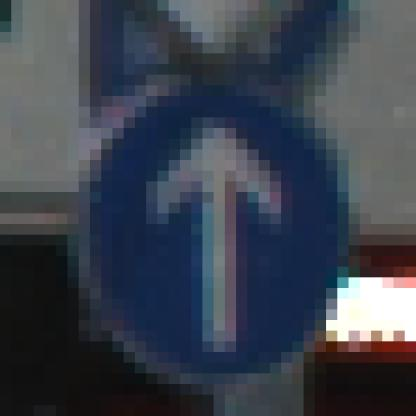AheadOnly: (57, 54, 361, 364)
